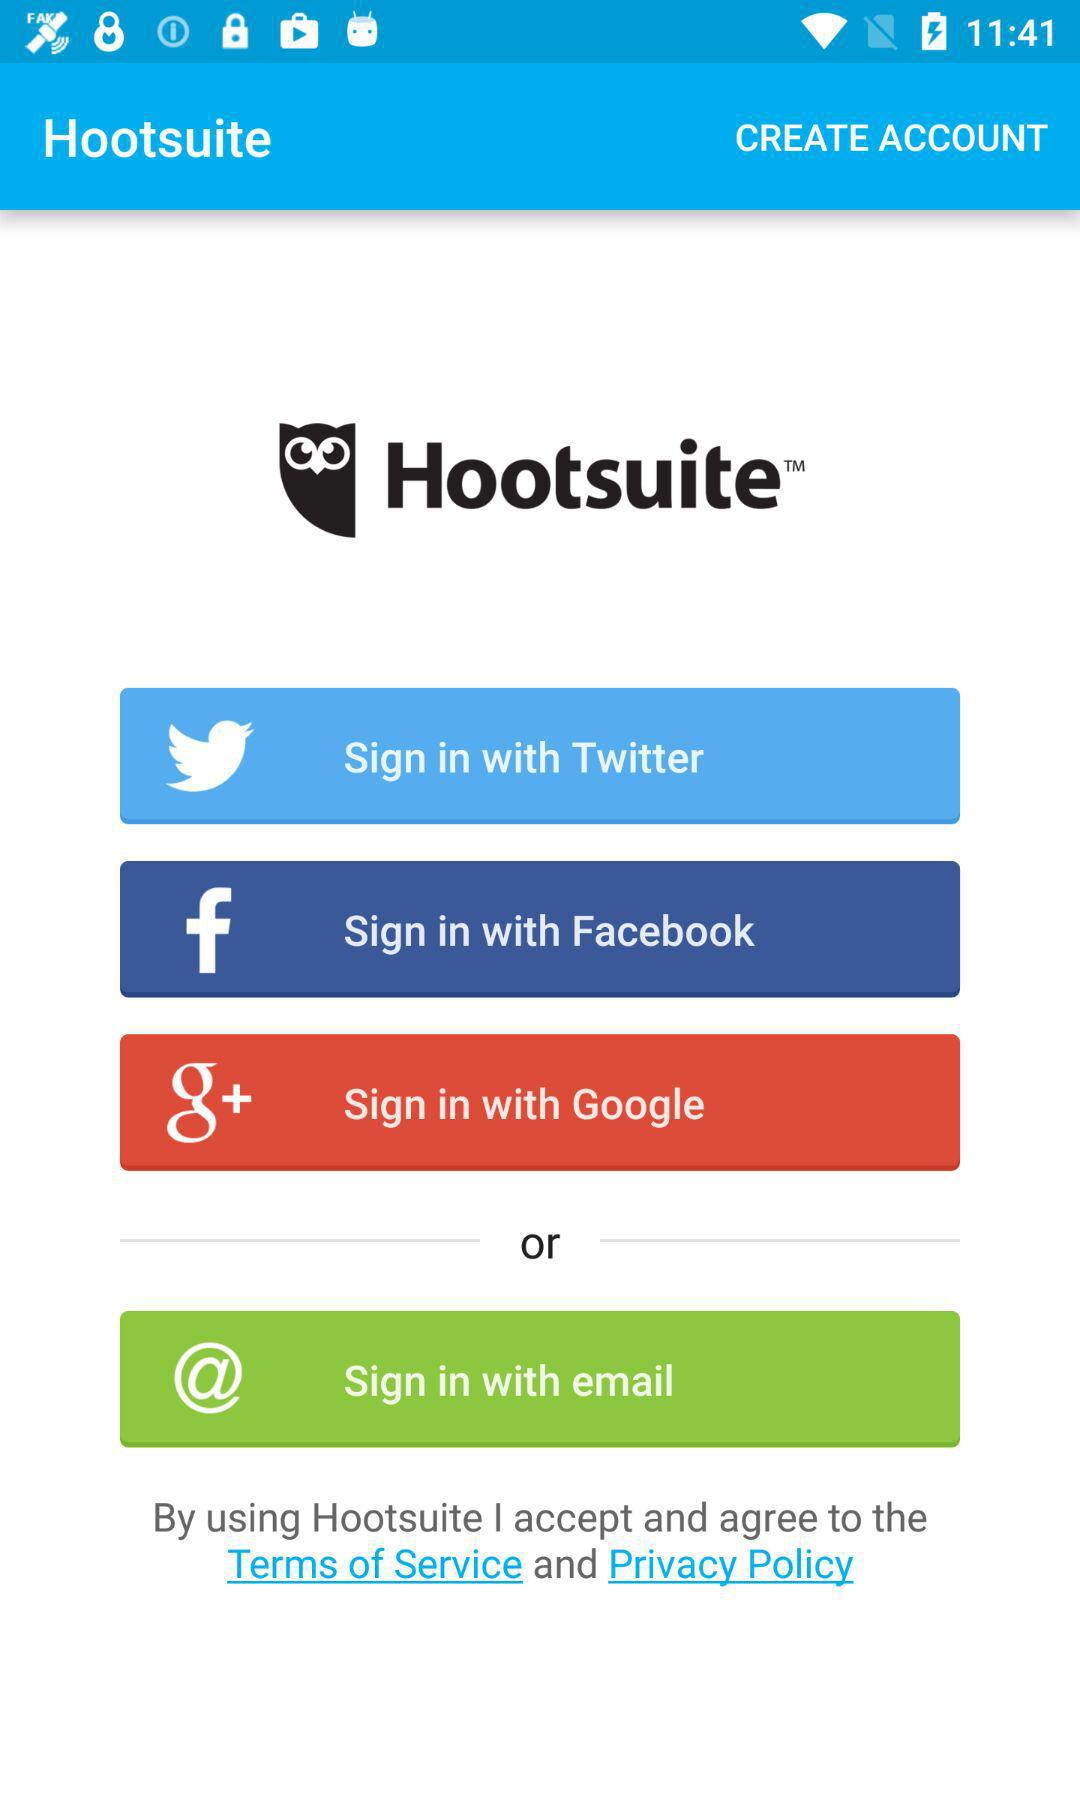Image: (279, 423, 805, 539)
Text: (156, 1501, 928, 1586), (46, 118, 272, 159), (735, 124, 1049, 152), (521, 1233, 561, 1260)
TextButton: (120, 1034, 961, 1173), (120, 1311, 961, 1448), (120, 688, 961, 825), (120, 861, 960, 998)
Toolbar: (1, 64, 1079, 211)
UpperTaskBar: (1, 1, 1080, 64)
